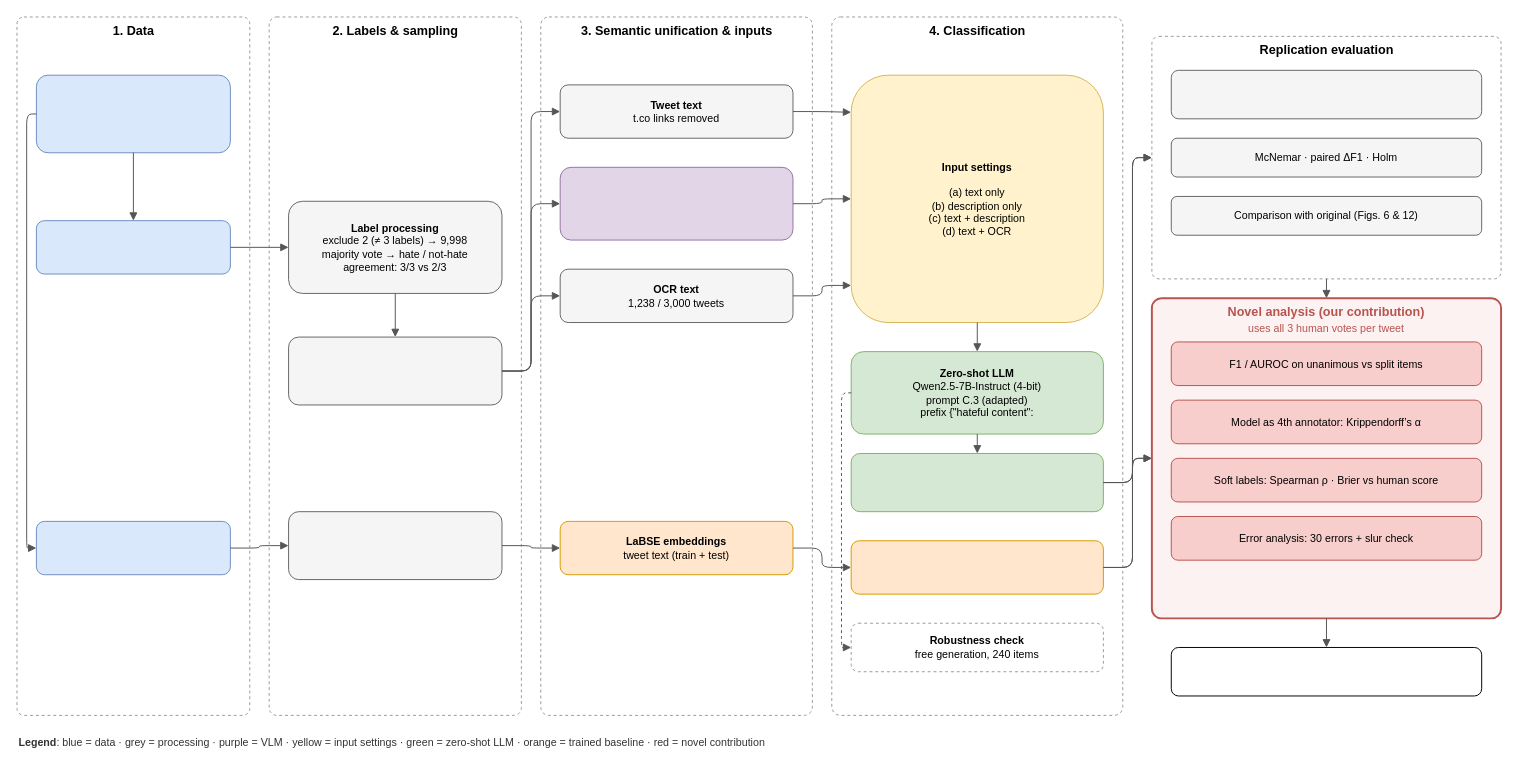
The diagram is 1519 pixels wide and 776 high, and some of its shapes have lost their labels. Each missing label, with the centre of its shape:
"Decision P(hate) = p(true) / (p(true) + p(false)) threshold 0.5" belongs at point (976, 482).
"Logistic regression with / without SMOTE (k = 5)" belongs at point (976, 567).
"MMHS150K 149,823 image tweets text · image · OCR · 3 labels" belongs at point (132, 113).
"P · R · F1 · AUROC 2,000 paired bootstrap 95% CI" belongs at point (1326, 94).
"Paper : Tables 1–8 · Figures 1–4" belongs at point (1326, 671).
"Stratified sample 3,000 = 750 × {hate, not} × {3/3, 2/3} seed 42" belongs at point (395, 370).
"Test split 10,000 tweets" belongs at point (132, 247).
"Train split 134,823 tweets" belongs at point (132, 547).
"Training sample 20,000 random tweets natural 21.8% hate · no test overlap" belongs at point (395, 545).
"VLM: Qwen2.5-VL-3B-Instruct prompt C.9, image only → text description" belongs at point (676, 203).
